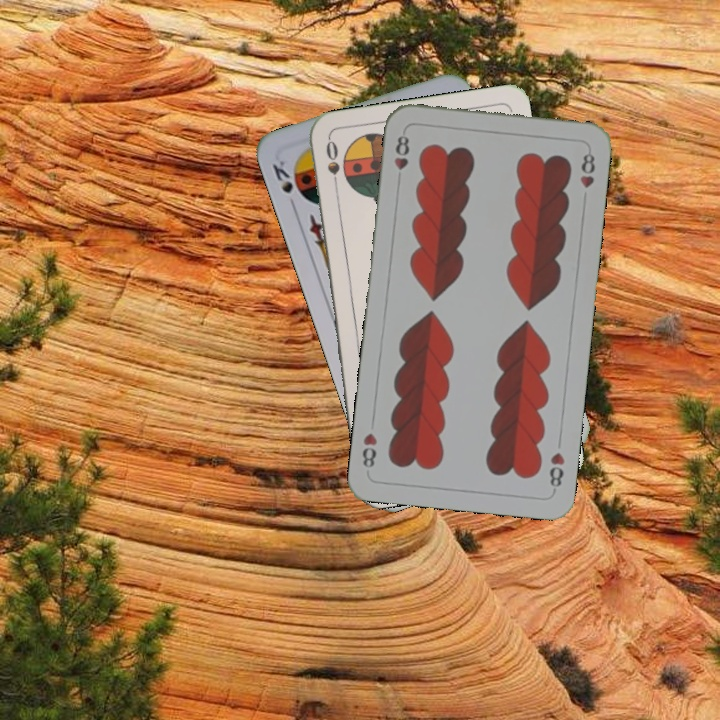H8: (545, 448, 567, 494), (390, 127, 412, 172)
SK: (268, 156, 299, 212)
SO: (322, 136, 342, 195)
